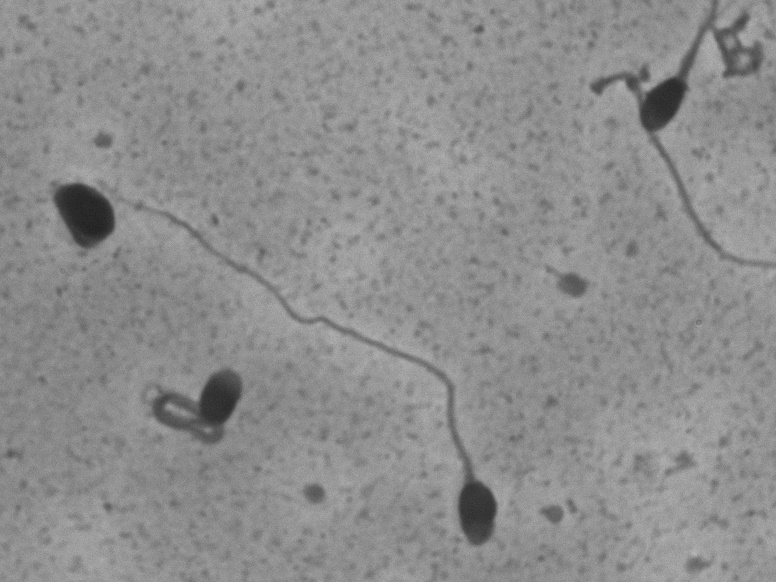Abnormal: (96, 163, 517, 558), (128, 351, 260, 472)
